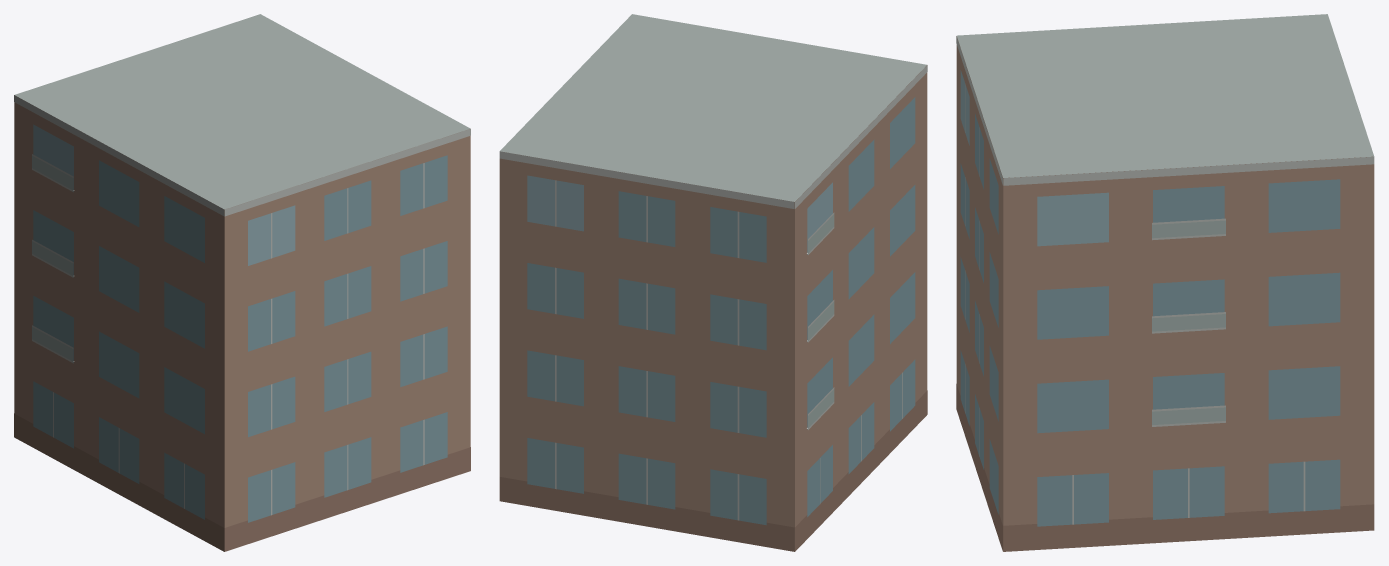
File: survey-upis-32938411.glb
3 renders of one model, left to right at view 1: azimuth 30°, elevation 25°; view 2: azimuth 150°, elevation 25°; view 3: azimuth 270°, elevation 25°, orthographic. The views are drawn at different scales.
Visible parts, largest first — view 1: survey-upis-32938411.tmp; view 2: survey-upis-32938411.tmp; view 3: survey-upis-32938411.tmp.
Part boxes in pixels (left/top/right/bottom): survey-upis-32938411.tmp: left=14, top=14, right=470, bottom=551; survey-upis-32938411.tmp: left=499, top=14, right=927, bottom=551; survey-upis-32938411.tmp: left=956, top=14, right=1374, bottom=551.
Size of the model in its own units: 11.12 by 11.8 by 11.97.
